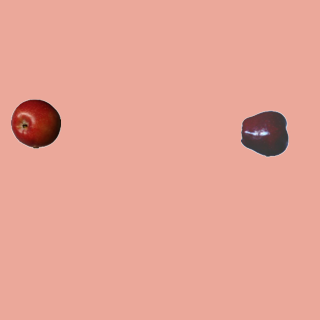Apple Braeburn: (10, 98, 60, 148)
Apple Red Delicious: (240, 108, 290, 158)
